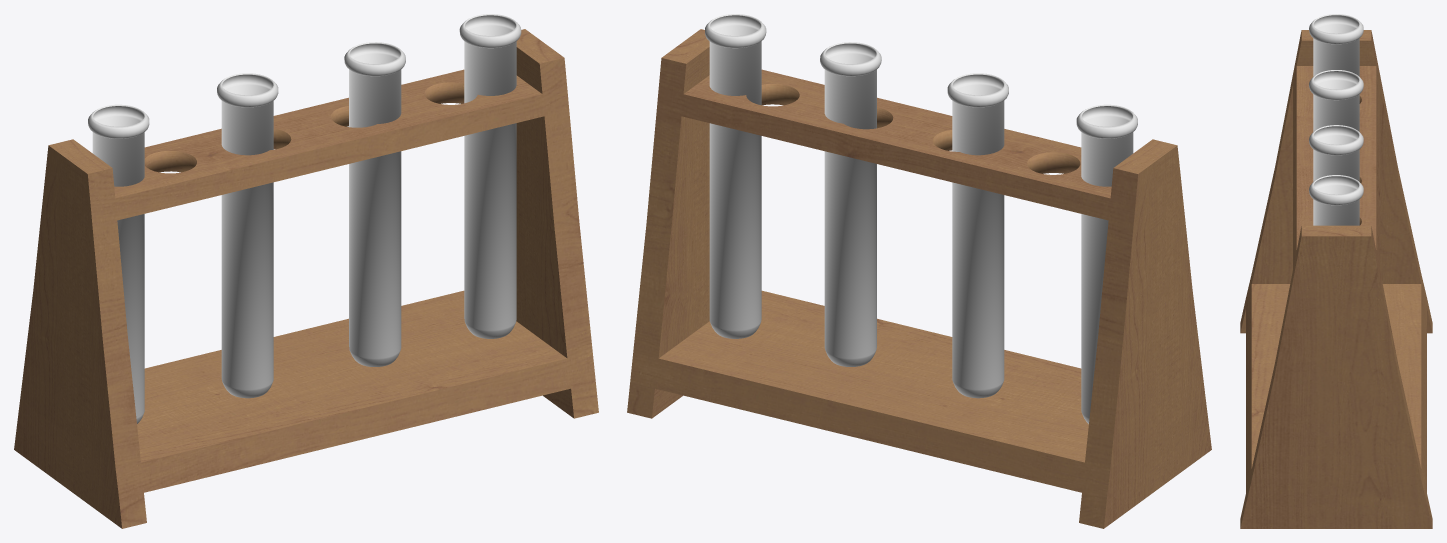
File: Rack.fbx
3 renders of one model, left to right at view 1: azimuth 30°, elevation 25°; view 2: azimuth 150°, elevation 25°; view 3: azimuth 270°, elevation 25°, orthographic. The views are drawn at different scales.
Parts seen in each view (by area): view 1: Tube-Rack, Test-Tubes; view 2: Tube-Rack, Test-Tubes; view 3: Tube-Rack, Test-Tubes.
Boxes of the visible parts, left/top/right/bottom form: Tube-Rack: left=14, top=29, right=598, bottom=528; Test-Tubes: left=88, top=14, right=521, bottom=423; Tube-Rack: left=627, top=29, right=1211, bottom=528; Test-Tubes: left=705, top=14, right=1137, bottom=423; Tube-Rack: left=1240, top=30, right=1432, bottom=528; Test-Tubes: left=1309, top=14, right=1363, bottom=225.
Bounding box in the file's own units: 513 × 371 × 201.
